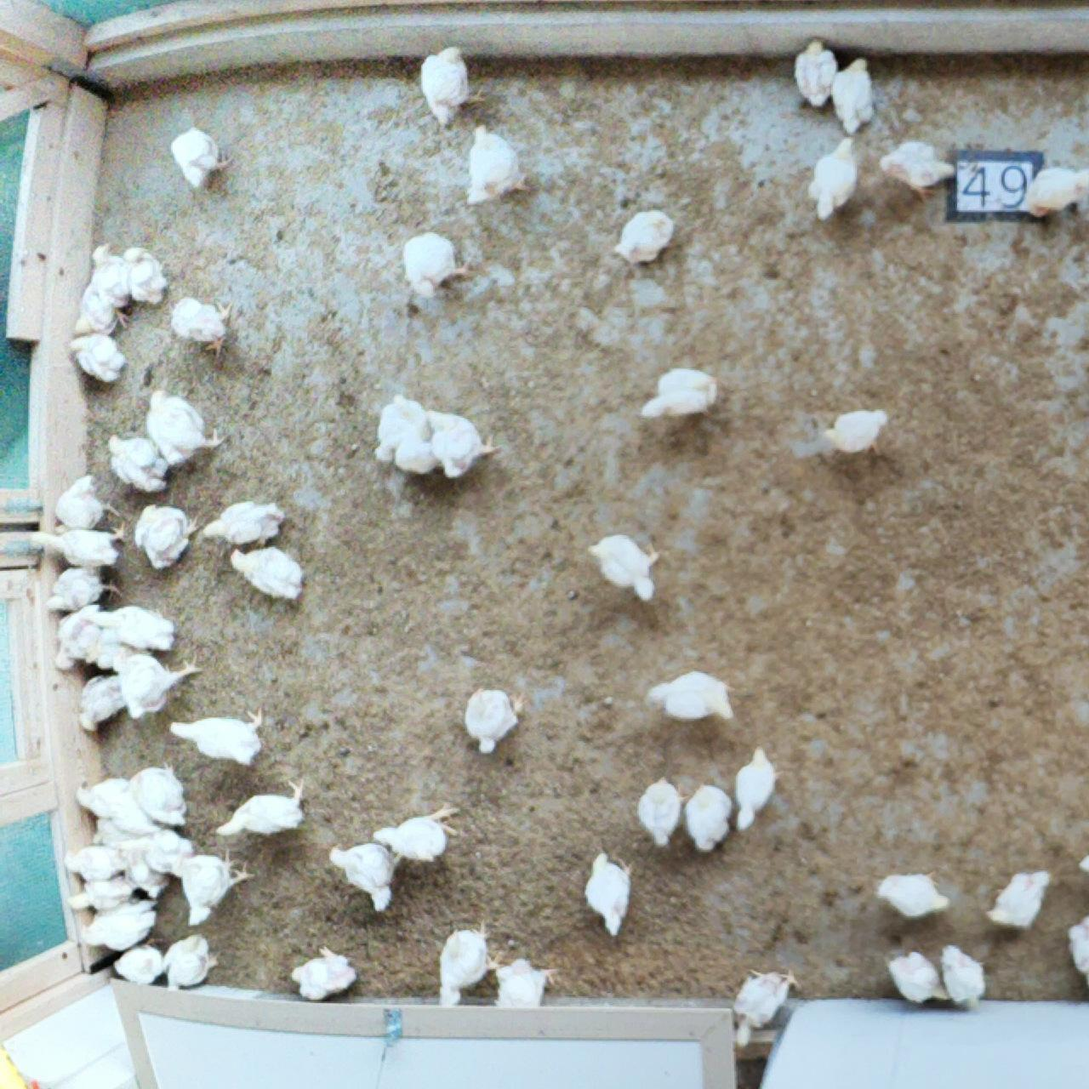chicken: (163, 704, 280, 772), (168, 847, 257, 929), (106, 645, 204, 719), (461, 116, 534, 212), (144, 380, 228, 462), (214, 774, 311, 843), (873, 130, 962, 204), (418, 39, 488, 131), (418, 403, 500, 480), (644, 664, 741, 729), (731, 962, 804, 1048), (433, 916, 501, 1007), (371, 798, 464, 864), (631, 363, 725, 428), (323, 832, 396, 914), (401, 223, 475, 302), (583, 845, 640, 945), (802, 134, 864, 224), (371, 388, 435, 475), (585, 531, 664, 601), (980, 862, 1056, 932), (85, 600, 181, 655), (461, 680, 526, 760), (868, 865, 956, 924), (101, 427, 175, 496), (227, 545, 313, 603), (120, 756, 189, 828), (74, 895, 161, 952), (129, 500, 197, 572), (31, 523, 131, 571), (198, 496, 290, 548), (885, 943, 952, 1011), (1018, 160, 1089, 224), (733, 742, 782, 834), (170, 124, 236, 192), (51, 470, 123, 532), (47, 600, 106, 675), (168, 291, 235, 357), (680, 778, 738, 854), (830, 52, 881, 138), (44, 562, 124, 616), (66, 774, 143, 829), (821, 403, 892, 462), (634, 770, 687, 848), (287, 940, 357, 999), (489, 951, 560, 1009), (611, 206, 679, 266), (66, 327, 129, 391), (793, 31, 841, 112), (118, 241, 174, 309), (157, 929, 219, 989), (937, 939, 990, 1009), (76, 674, 130, 737), (84, 234, 132, 301), (109, 934, 168, 986), (122, 837, 172, 898), (74, 284, 130, 334), (64, 873, 131, 912), (60, 840, 121, 879), (140, 823, 192, 866), (77, 622, 125, 667), (1067, 904, 1089, 990), (88, 814, 134, 843)
